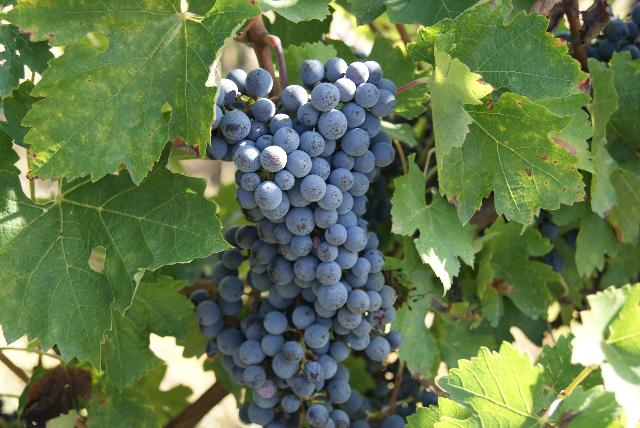grapes: (210, 58, 400, 362)
